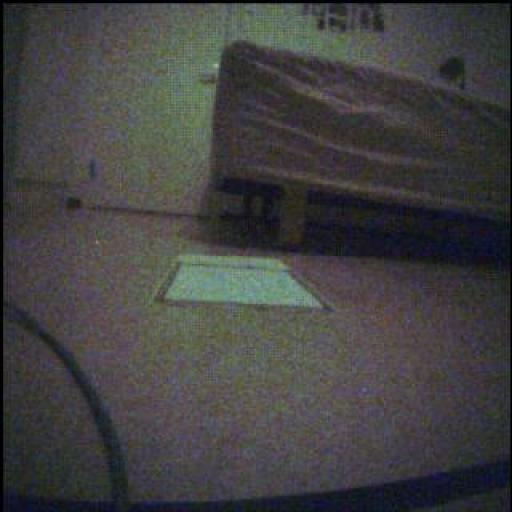pad: (158, 255, 331, 310)
